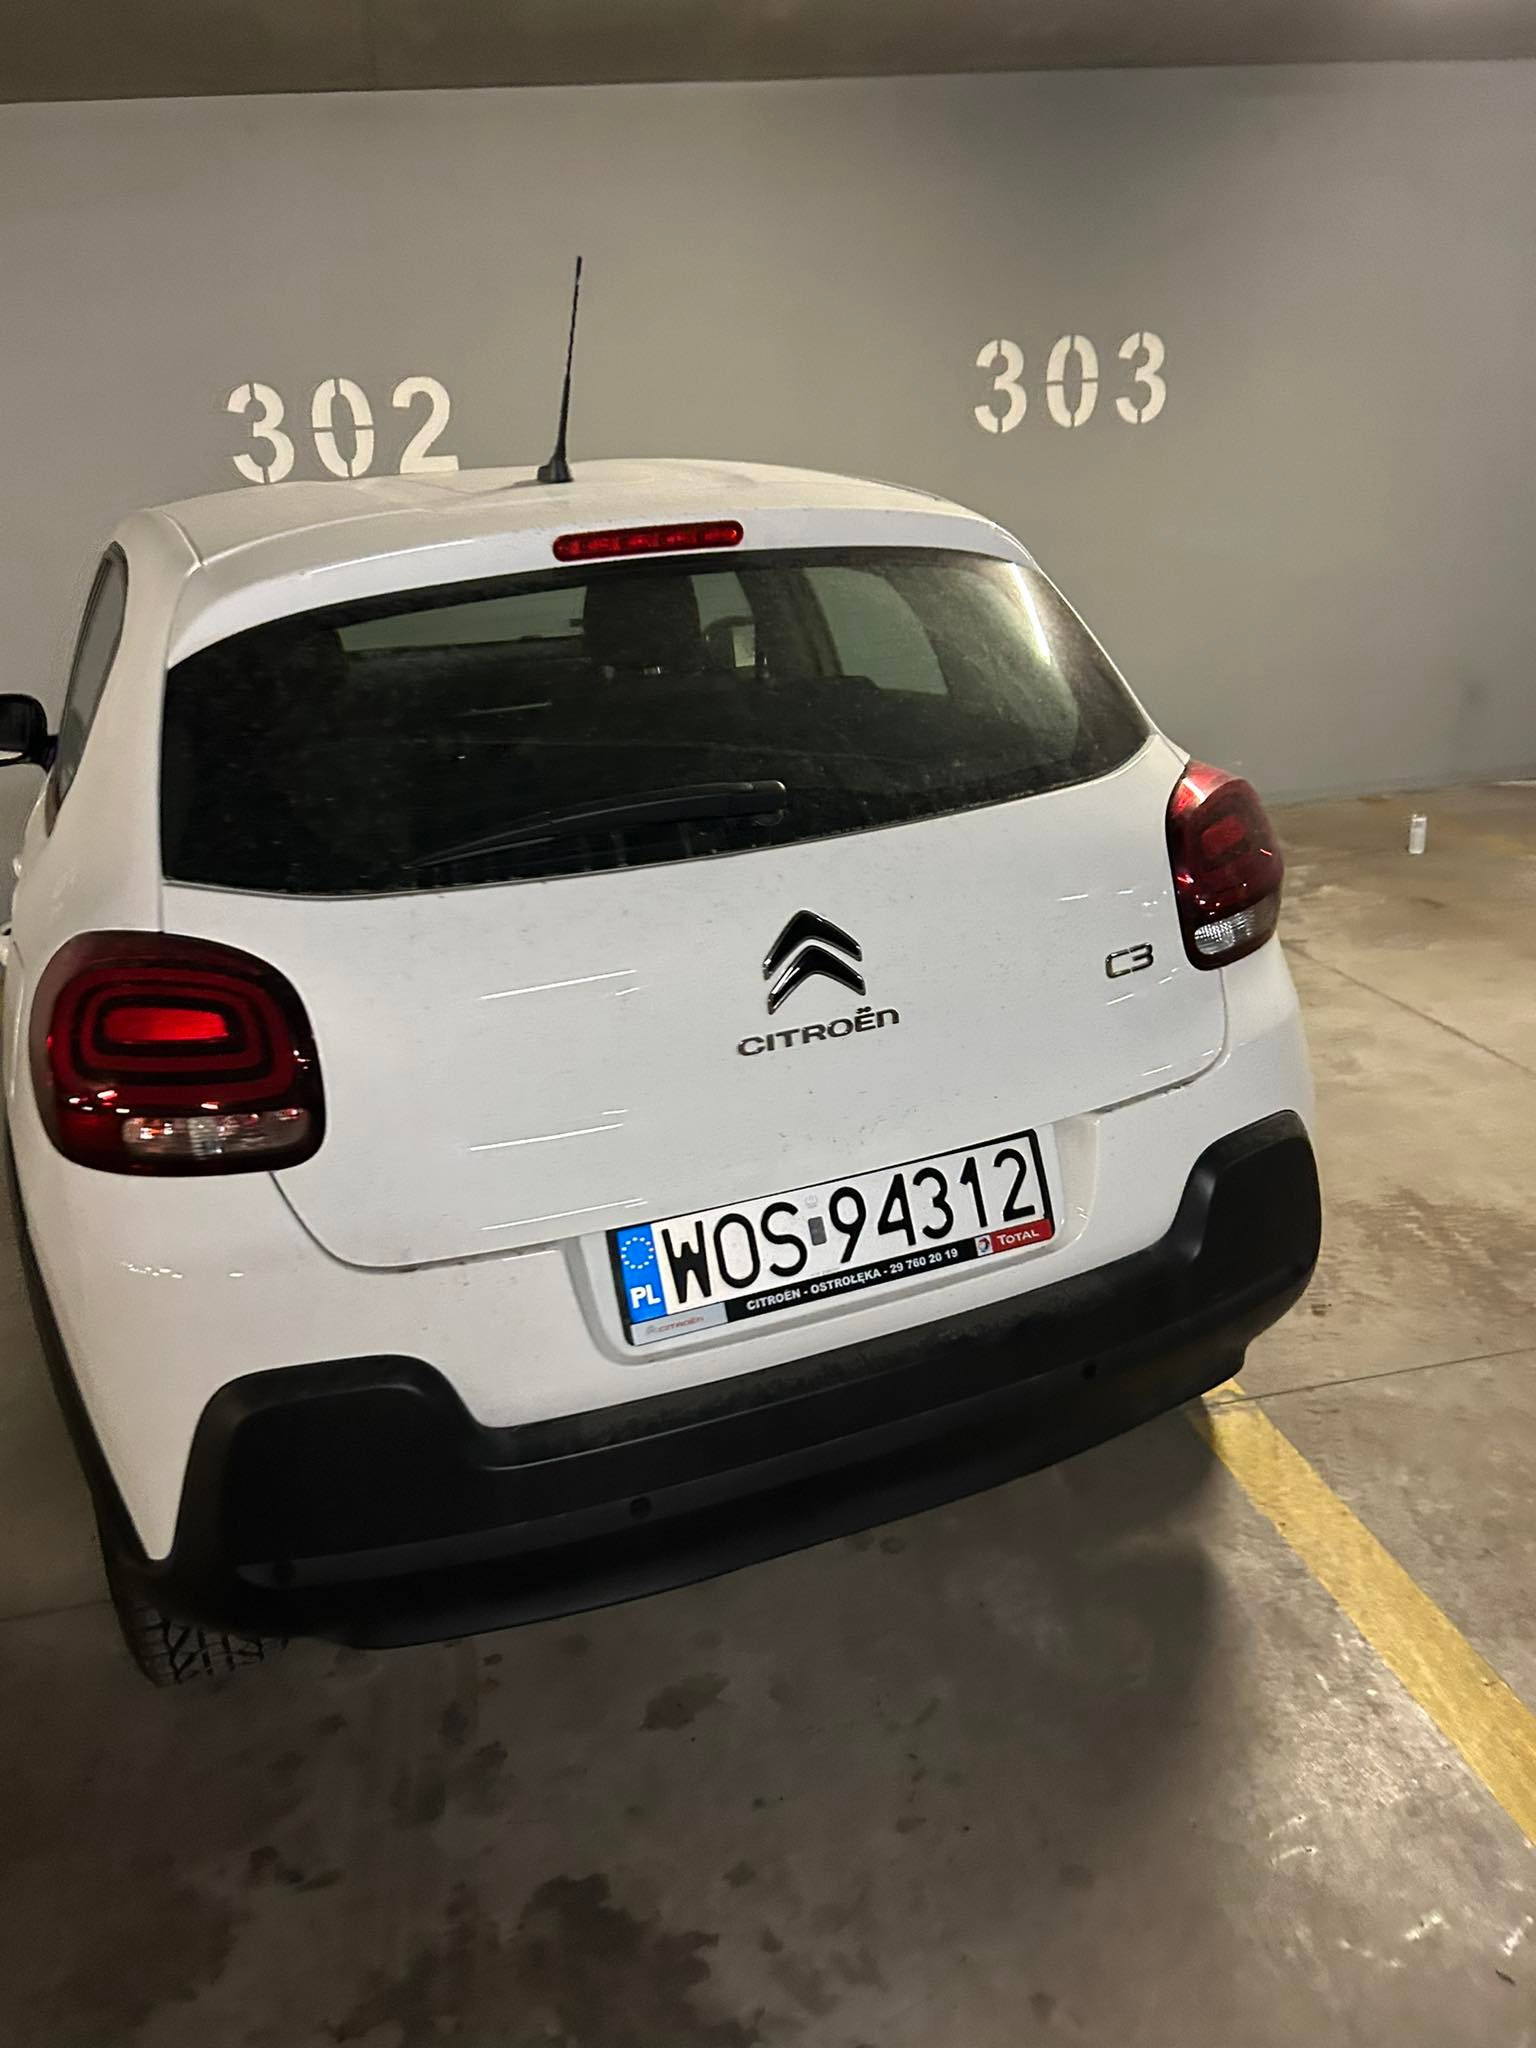number_plate: (599, 1132, 1056, 1348)
